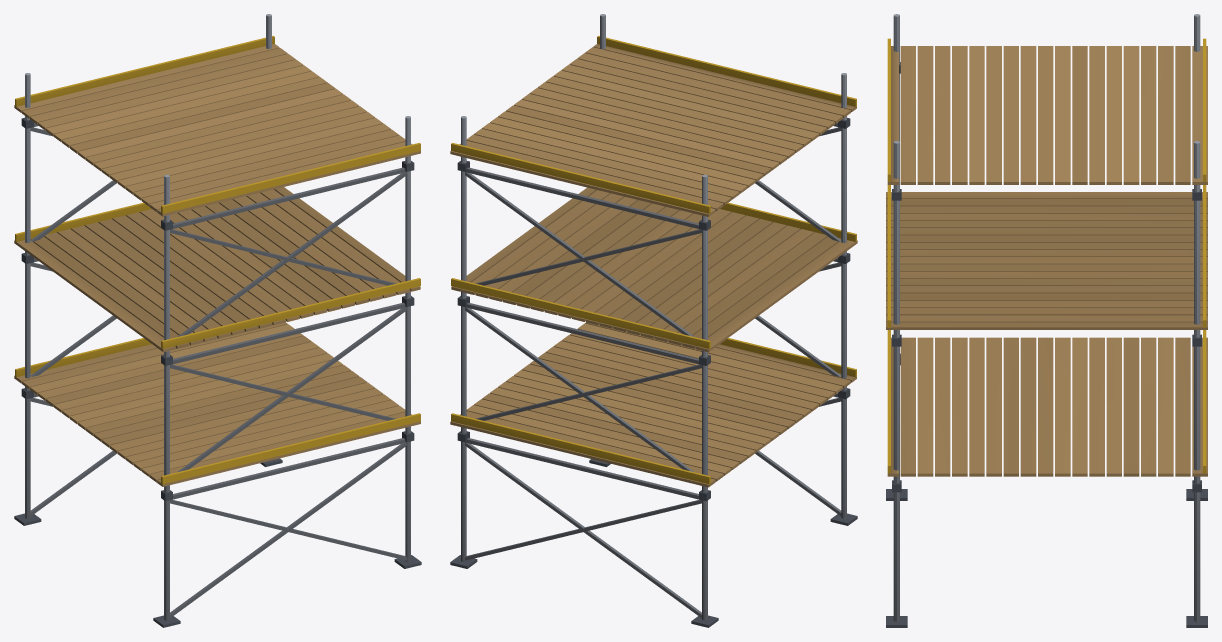
Rendered from y_scaffold.glb.
3 renders of one model, left to right at view 1: azimuth 30°, elevation 25°; view 2: azimuth 150°, elevation 25°; view 3: azimuth 270°, elevation 25°, orthographic. The views are drawn at different scales.
Visible parts, largest first — view 1: y_scaffold; view 2: y_scaffold; view 3: y_scaffold.
Boxes of the visible parts, <box> form: y_scaffold: <box>14,14,421,627</box>; y_scaffold: <box>450,14,857,627</box>; y_scaffold: <box>886,14,1207,627</box>.
Size of the model in its own units: 6 by 9.9 by 6.
